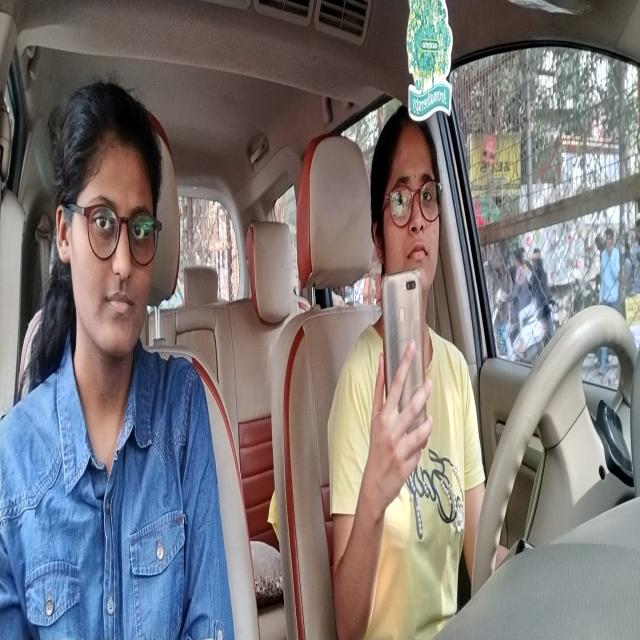mobile: (381, 270, 428, 414)
person: (62, 118, 160, 362), (375, 126, 444, 283)
